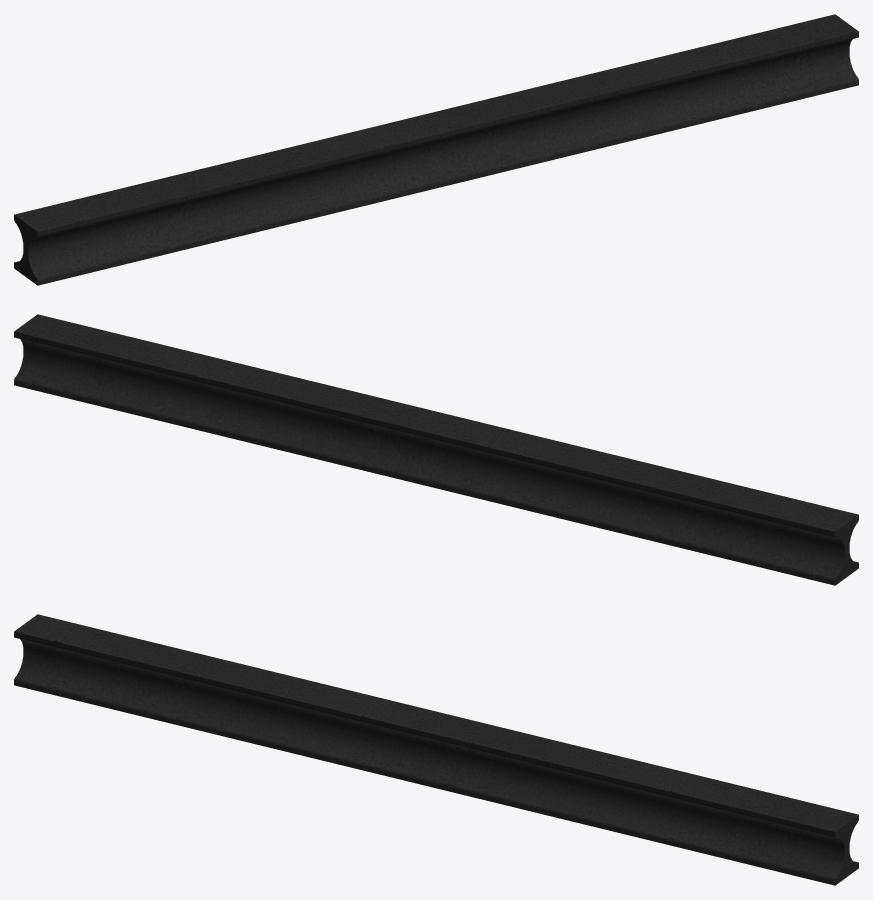
Rendered from beam_5.glb.
3 views of the same model, one above another, from view 1: azimuth 30°, elevation 25°; view 2: azimuth 150°, elevation 25°; view 3: azimuth 330°, elevation 25° (orthographic).
Visible parts, largest first — view 1: beam_5; view 2: beam_5; view 3: beam_5.
Boxes of the visible parts, x1,y1,x2,y2 form: beam_5: (14, 14, 858, 285); beam_5: (14, 314, 858, 585); beam_5: (14, 614, 858, 885).
Bounding box in the file's own units: 4 × 0.25 × 0.2.
Materials: 1 (1 with a texture image).
